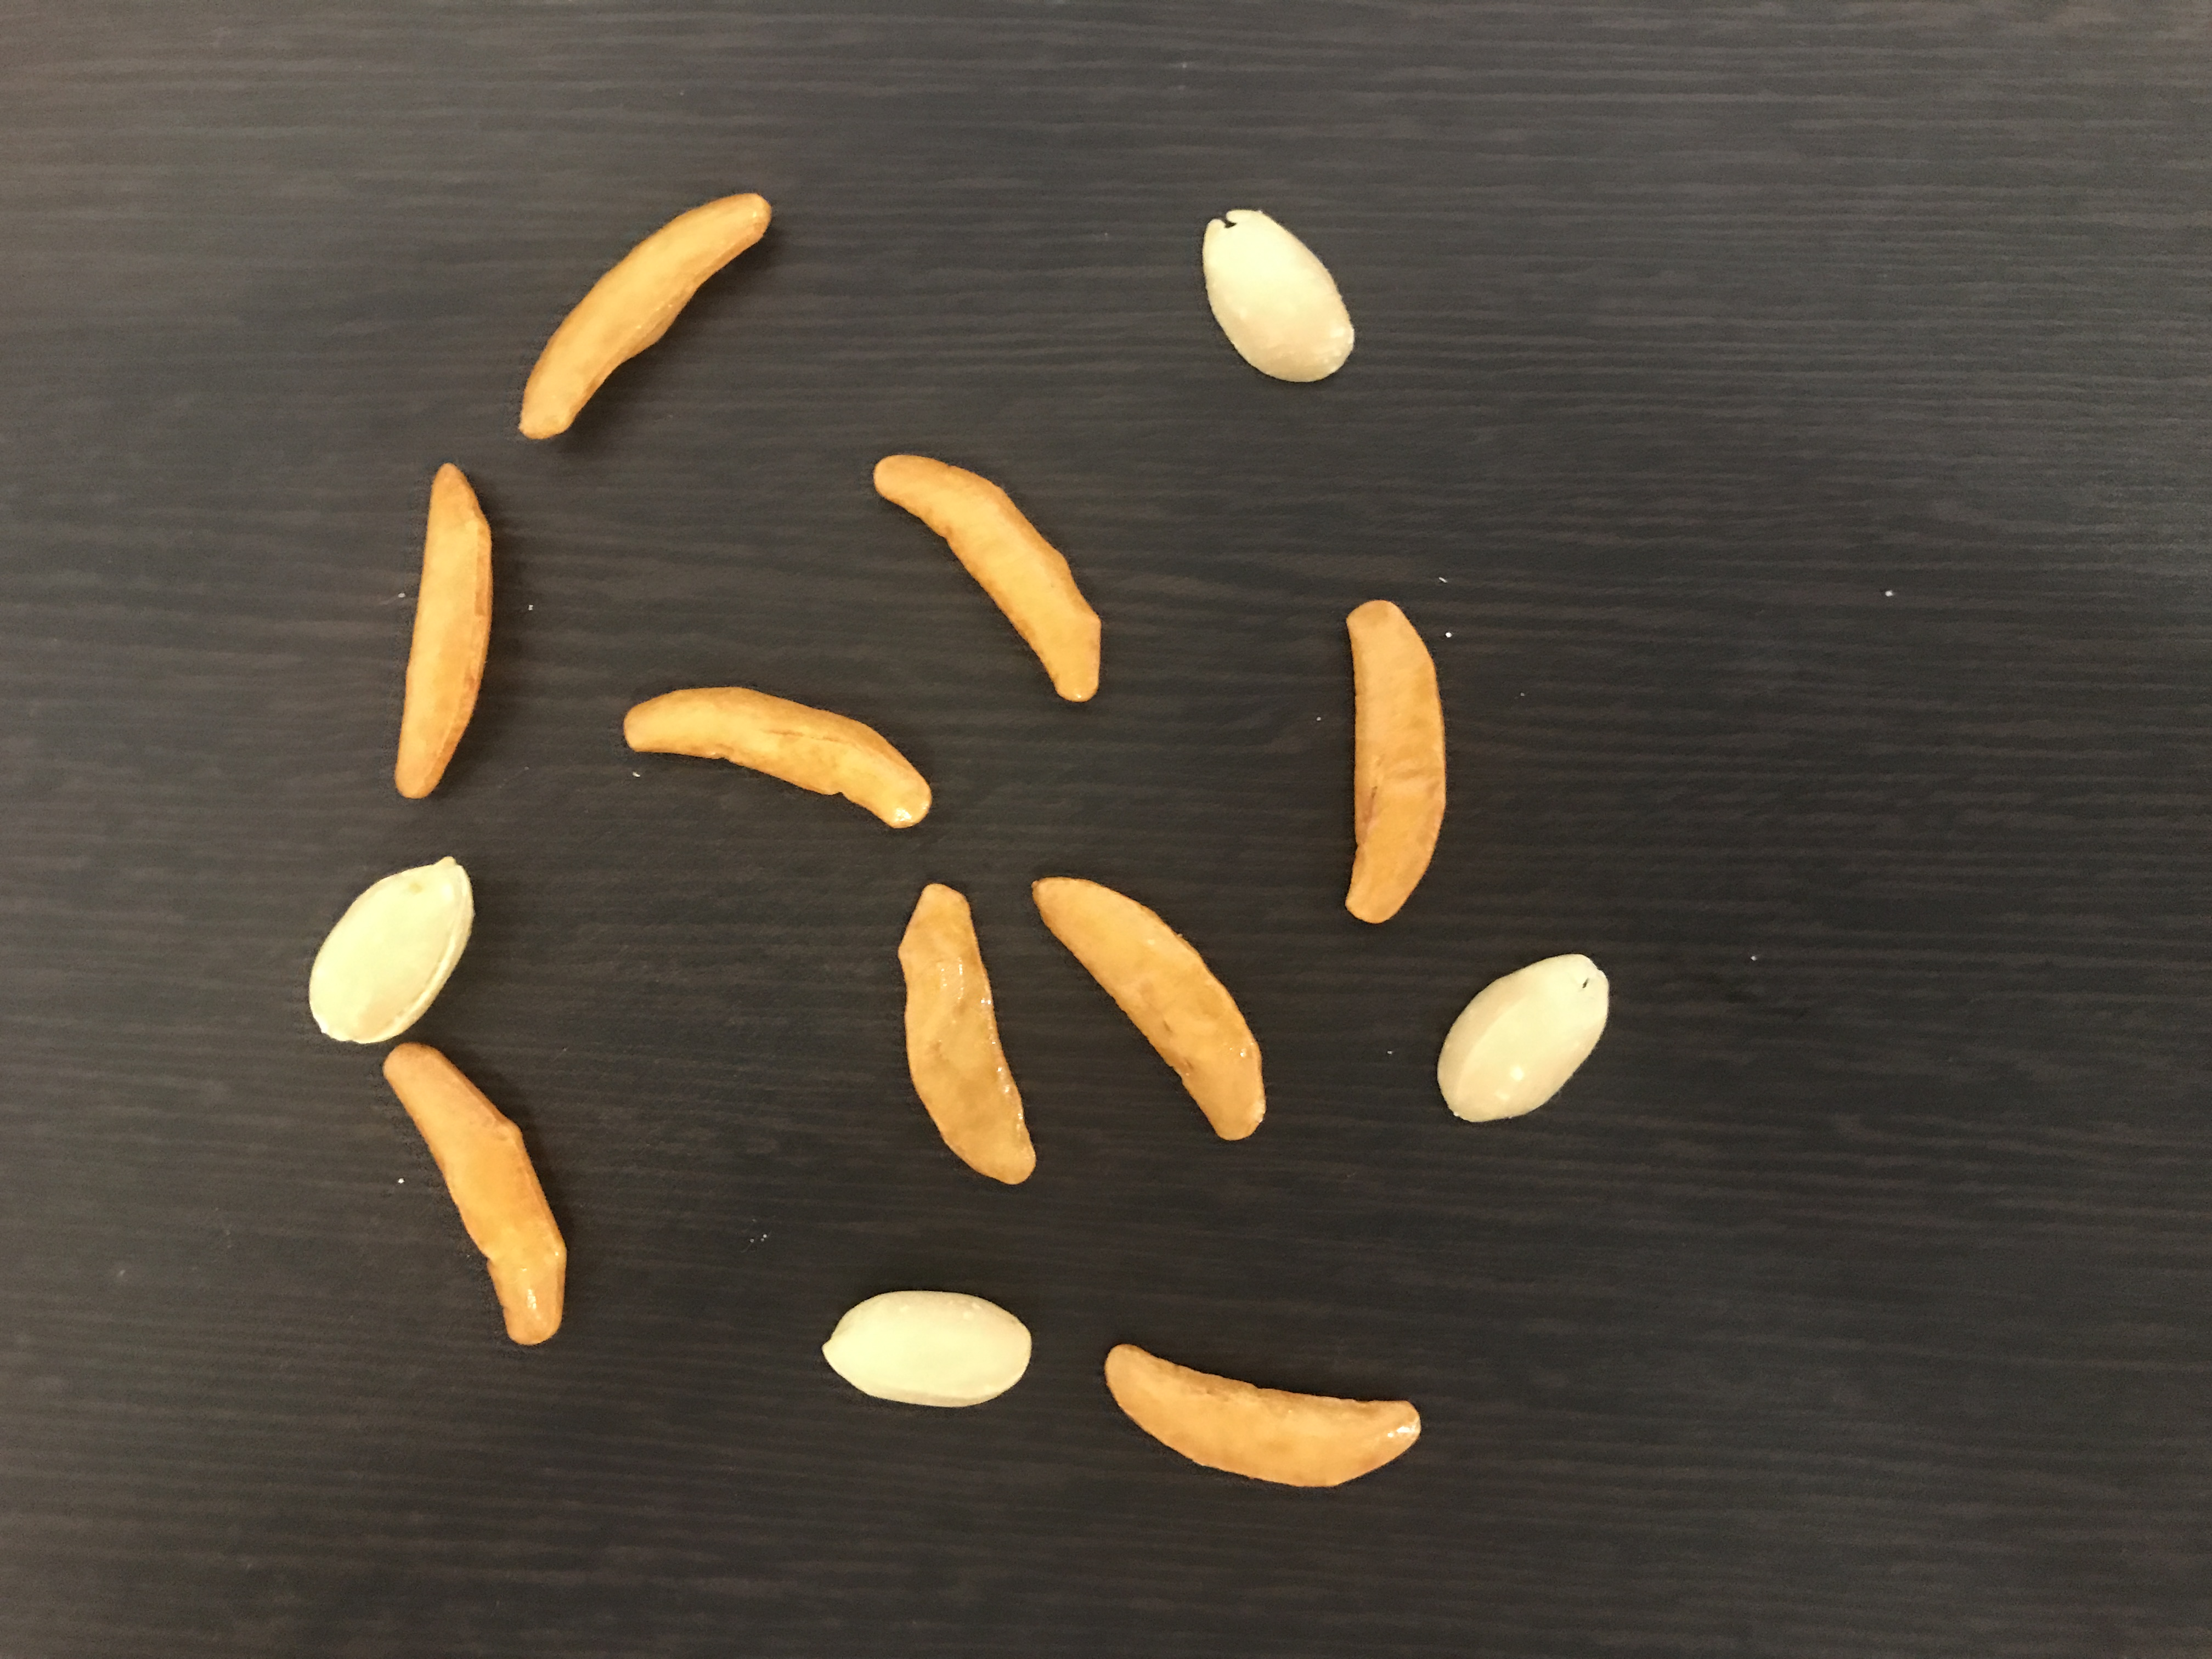peanut: (294, 845, 482, 1049), (1420, 943, 1618, 1126), (1193, 202, 1364, 389), (813, 1279, 1040, 1417)
